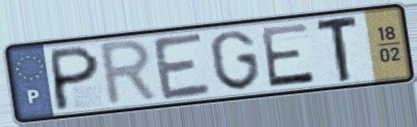E: (150, 30, 215, 103), (258, 20, 318, 90)
G: (207, 28, 264, 93)
P: (50, 43, 103, 114)
R: (98, 36, 162, 110)
T: (314, 13, 361, 86)
